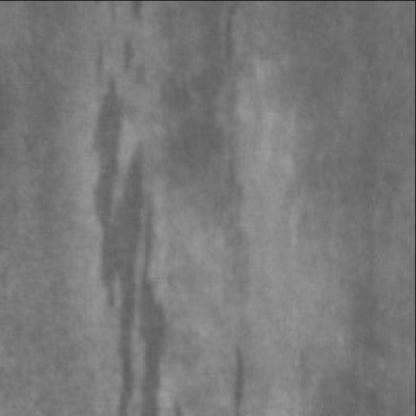inclusion: (87, 31, 196, 410), (170, 8, 254, 277), (226, 337, 256, 410)
